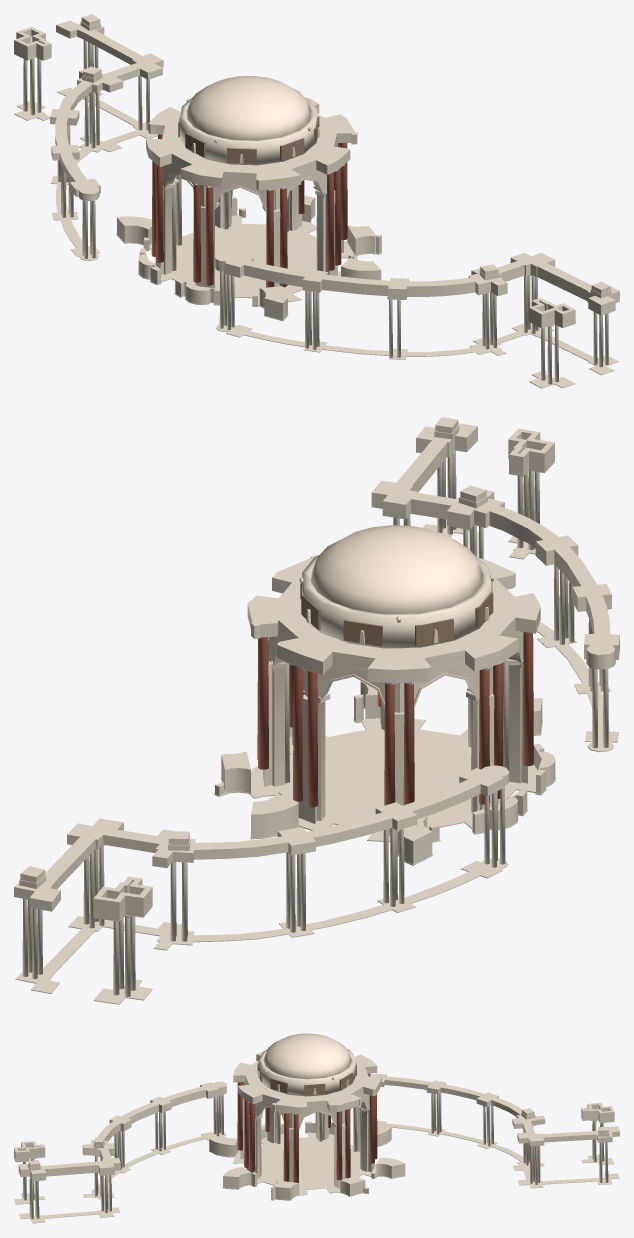
The picture shows the model from 3 angles, top to bottom: view 1: azimuth 30°, elevation 25°; view 2: azimuth 150°, elevation 25°; view 3: azimuth 270°, elevation 25°; orthographic projection. The views are drawn at different scales.
Parts seen in each view (by area): view 1: stone, terracotta, trim, metal; view 2: stone, trim, terracotta, metal; view 3: stone, terracotta, trim, metal.
Boxes of the visible parts, bbox=[...] form: stone: bbox=[14, 14, 619, 388]; terracotta: bbox=[151, 134, 347, 287]; trim: bbox=[186, 76, 311, 140]; metal: bbox=[178, 115, 319, 163]; stone: bbox=[14, 417, 619, 1004]; trim: bbox=[310, 525, 482, 613]; terracotta: bbox=[257, 632, 533, 807]; metal: bbox=[300, 581, 493, 646]; stone: bbox=[14, 1049, 619, 1223]; terracotta: bbox=[237, 1073, 377, 1182]; trim: bbox=[263, 1033, 351, 1078]; metal: bbox=[257, 1063, 356, 1095].
Size of the model in its own units: 88.86 by 49.38 by 221.
